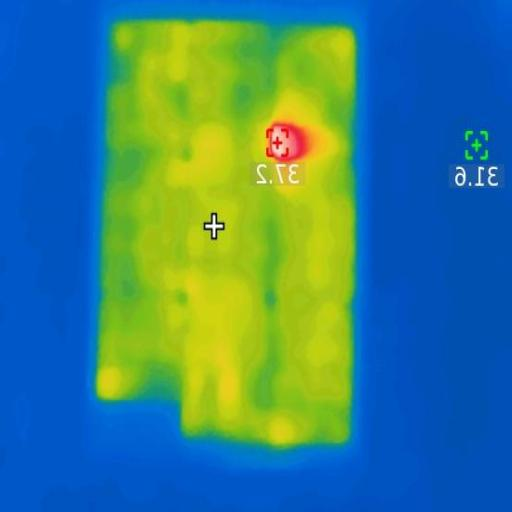hotspot: (261, 120, 311, 172)
